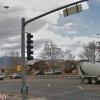Traffic light: (18, 25, 51, 74)
